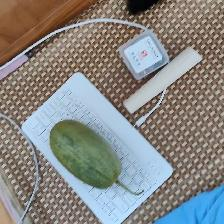gua: (50, 120, 126, 186)
